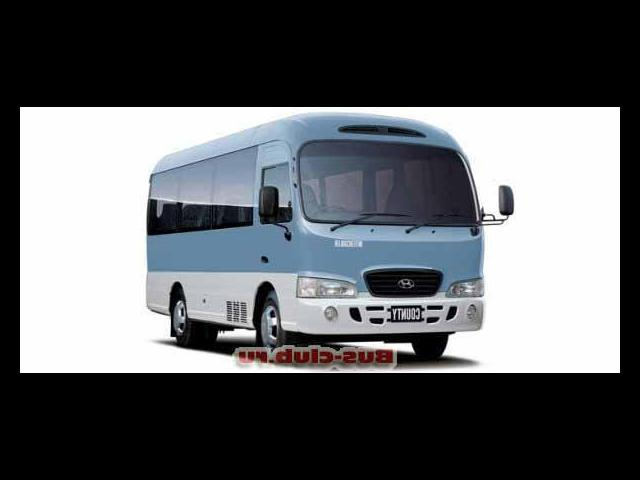bus: (140, 109, 520, 358)
